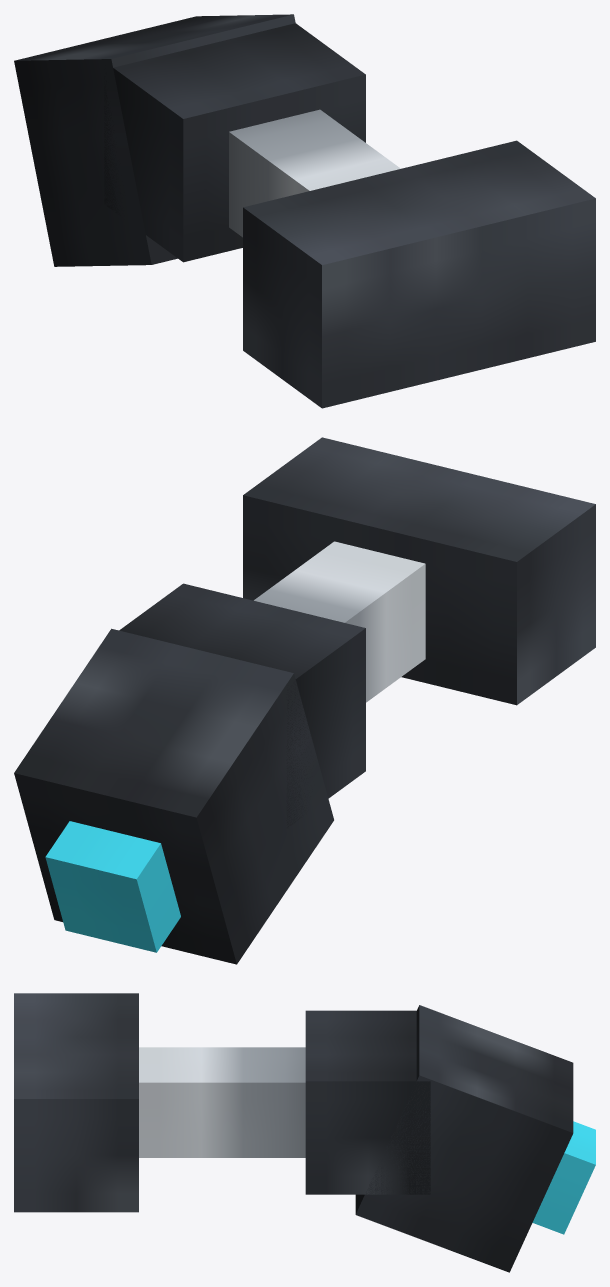
The model's file is loadout_station_arm_a.obj.
3 views of the same model, one above another, from view 1: azimuth 30°, elevation 25°; view 2: azimuth 150°, elevation 25°; view 3: azimuth 270°, elevation 25° (orthographic). The views are drawn at different scales.
Visible parts, largest first — view 1: loadout_station_arm_a_Hub, loadout_station_arm_a_Elbow, loadout_station_arm_a_Forearm, loadout_station_arm_a_Link; view 2: loadout_station_arm_a_Forearm, loadout_station_arm_a_Hub, loadout_station_arm_a_Elbow, loadout_station_arm_a_Link, loadout_station_arm_a_Emitter; view 3: loadout_station_arm_a_Forearm, loadout_station_arm_a_Hub, loadout_station_arm_a_Elbow, loadout_station_arm_a_Link, loadout_station_arm_a_Emitter.
Part boxes in pixels (x1,y1,x2,y2): loadout_station_arm_a_Hub: (243, 140, 595, 408); loadout_station_arm_a_Elbow: (104, 23, 365, 262); loadout_station_arm_a_Forearm: (14, 14, 295, 266); loadout_station_arm_a_Link: (229, 109, 400, 237); loadout_station_arm_a_Forearm: (14, 628, 333, 964); loadout_station_arm_a_Hub: (243, 437, 595, 705); loadout_station_arm_a_Elbow: (119, 583, 365, 827); loadout_station_arm_a_Link: (254, 541, 425, 702); loadout_station_arm_a_Emitter: (45, 821, 180, 952); loadout_station_arm_a_Forearm: (355, 1005, 573, 1272); loadout_station_arm_a_Hub: (14, 993, 138, 1212); loadout_station_arm_a_Elbow: (305, 1010, 430, 1194); loadout_station_arm_a_Link: (139, 1047, 305, 1157); loadout_station_arm_a_Emitter: (532, 1121, 595, 1234).
Bounding box in the file's own units: 0.1875 × 0.1633 × 0.4364.
